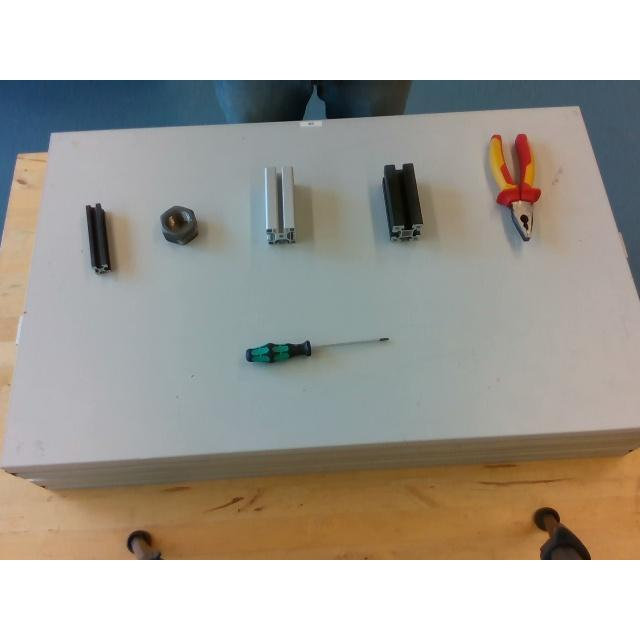F20_20_B: (86, 204, 110, 272)
M30: (160, 205, 197, 242)
S40_40_B: (382, 163, 422, 239)
S40_40_G: (264, 165, 296, 242)
Screwdriver: (246, 338, 388, 362)
